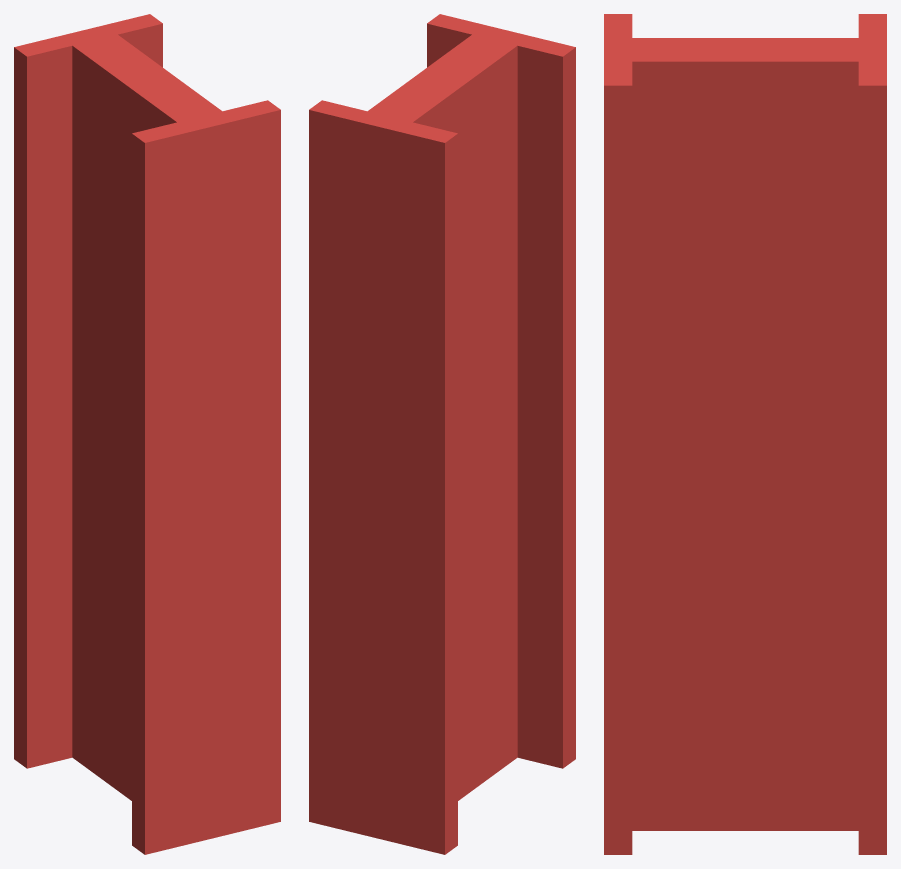
The model's file is Girder.fbx.
3 renders of one model, left to right at view 1: azimuth 30°, elevation 25°; view 2: azimuth 150°, elevation 25°; view 3: azimuth 270°, elevation 25°, orthographic. The views are drawn at different scales.
Visible parts, largest first — view 1: Cube.003; view 2: Cube.003; view 3: Cube.003.
Boxes of the visible parts, box(x1,y1,x2,y2) form: Cube.003: box(14, 14, 280, 854); Cube.003: box(309, 14, 575, 854); Cube.003: box(604, 14, 886, 854).
Bounding box in the file's own units: 60 × 300 × 100.
